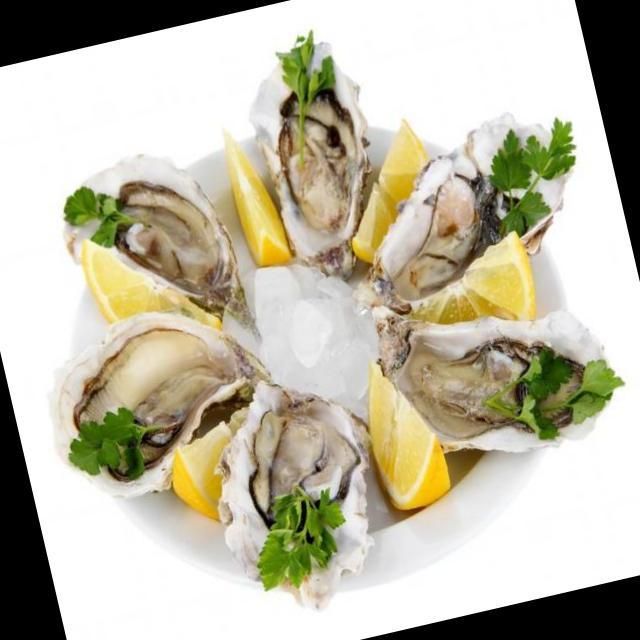Oyster-Open: (183, 349, 410, 632), (30, 278, 294, 516), (337, 89, 606, 321), (366, 271, 637, 488), (47, 130, 255, 373), (227, 11, 402, 275)
